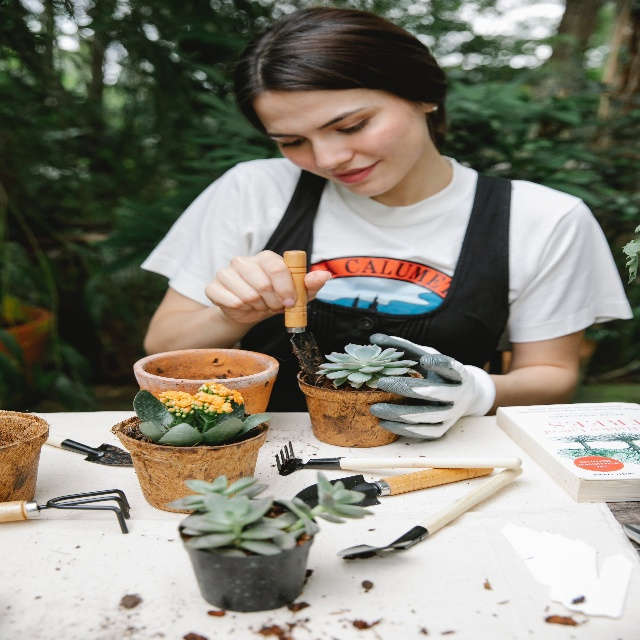Guantes: (369, 333, 496, 442)
Sin_guantes: (204, 249, 331, 326)
